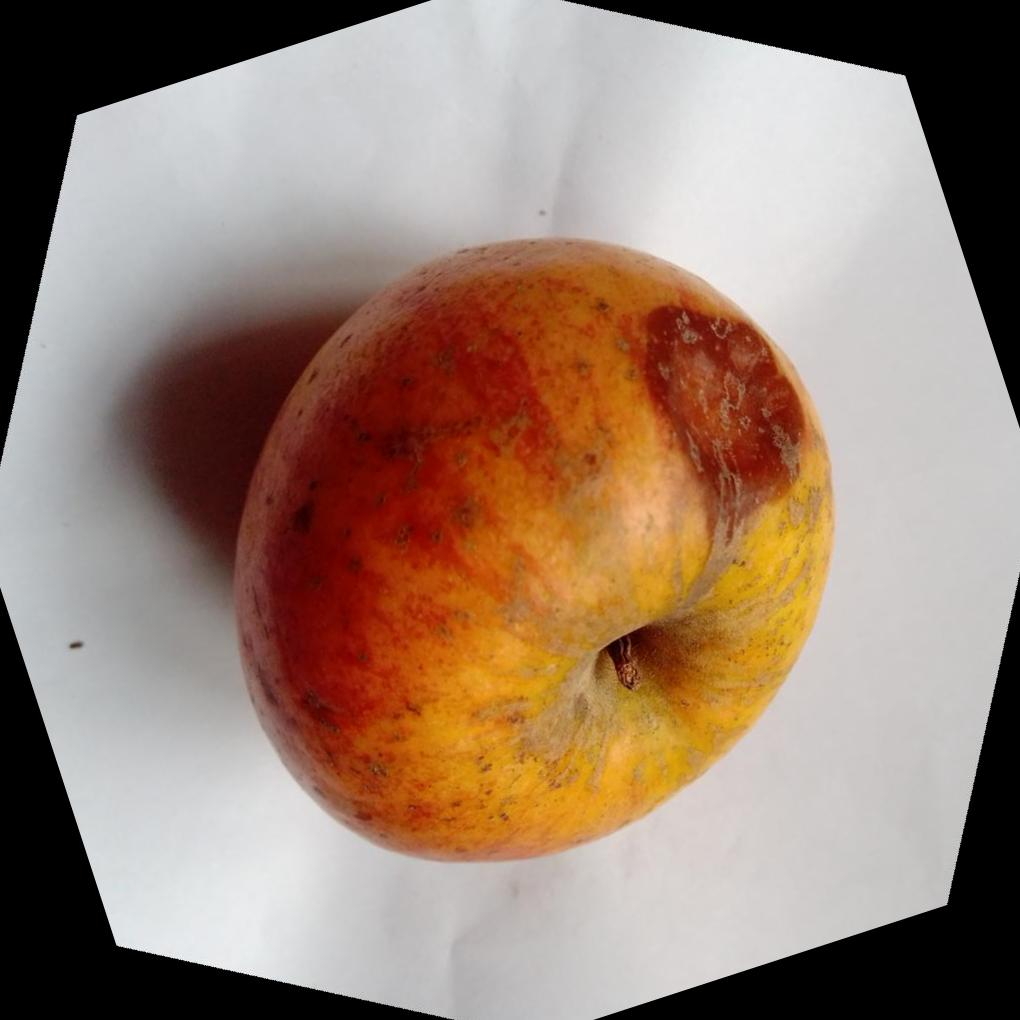FreshOrange: (225, 236, 832, 865)
